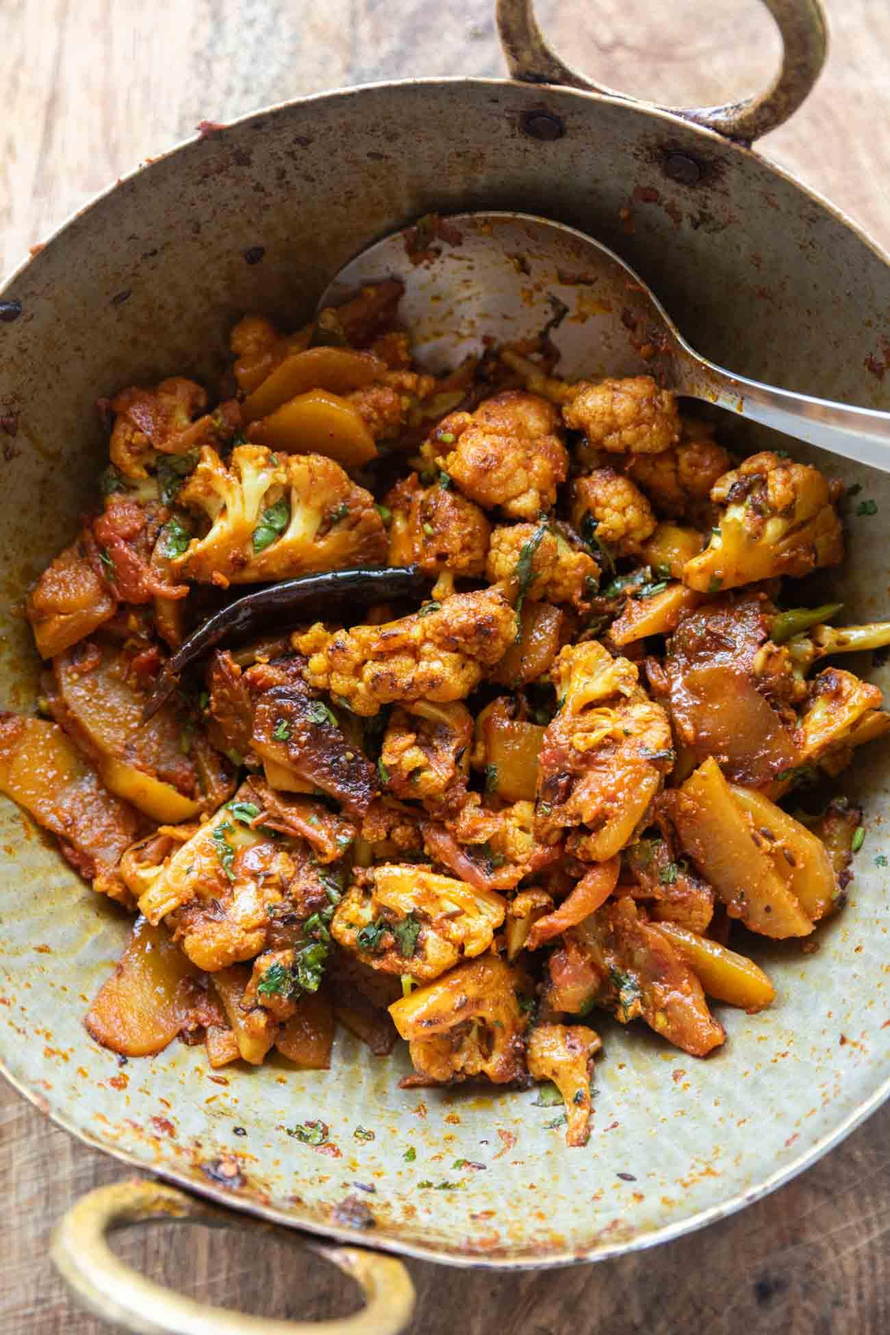aloo gobhi: (56, 272, 890, 1088)
